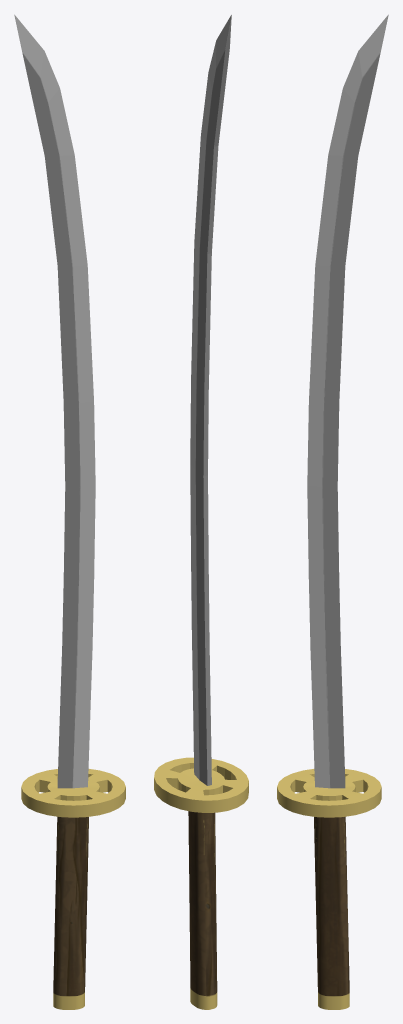
The model's file is katana.fbx.
3 views of the same model, side by side, from view 1: azimuth 90°, elevation 25°; view 2: azimuth 210°, elevation 25°; view 3: azimuth 270°, elevation 25° (orthographic).
Parts seen in each view (by area): view 1: pCylinder2; view 2: pCylinder2; view 3: pCylinder2.
Boxes of the visible parts, x1,y1,x2,y2 form: pCylinder2: (14, 14, 125, 1009); pCylinder2: (154, 15, 248, 1009); pCylinder2: (277, 14, 388, 1009).
Size of the model in its own units: 2.68 by 32.85 by 3.36.
